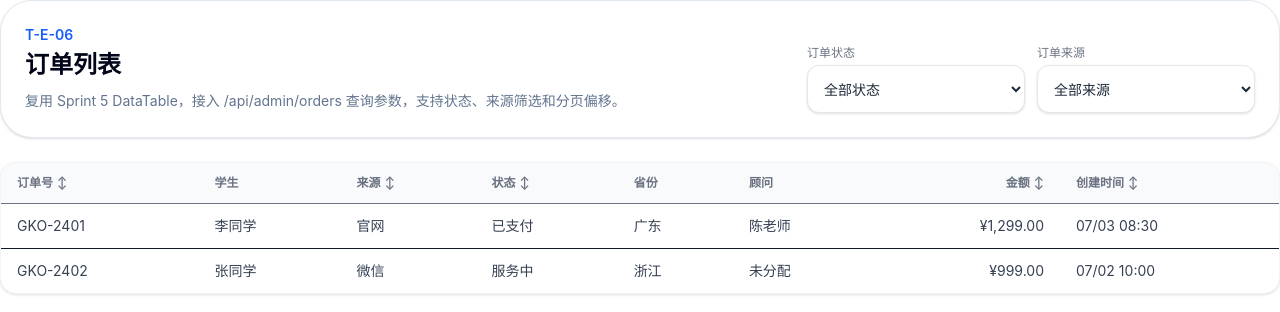
Scenario: AdminOrdersPage › filters orders by status and source
Expected: the text "GKO-2401" is shown, [1,204,198,248]
Step 1. Select "已支付" in the dropdown labelled "订单状态" → (916, 89), box [807,65,1025,113]
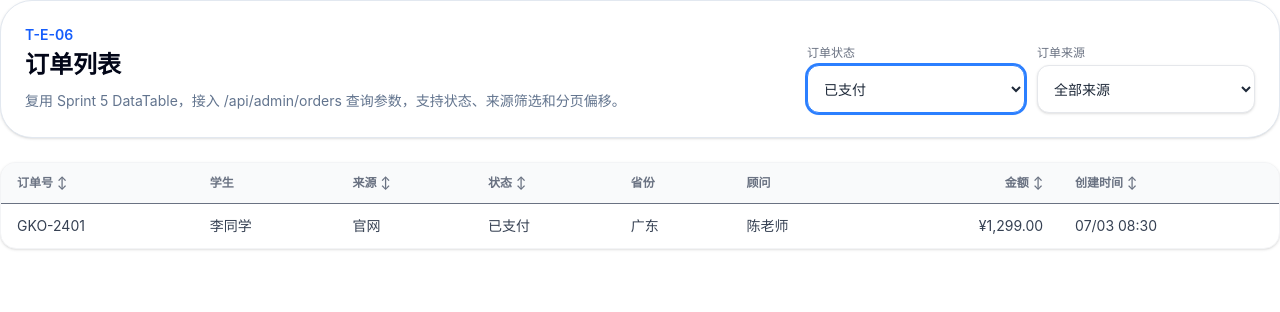
Expected: the text "GKO-2401" is shown, [1,204,194,248]
Result: the text "GKO-2402" is gone
Step 2. Select "微信" in the dropdown labelled "订单来源" → (1146, 89), box [1037,65,1255,113]
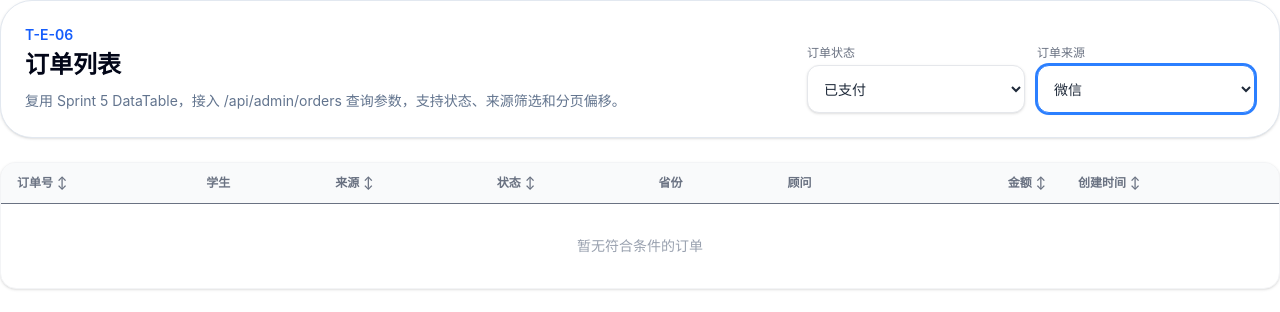
Result: the text "暂无符合条件的订单" is shown at [1,204,1279,288]
